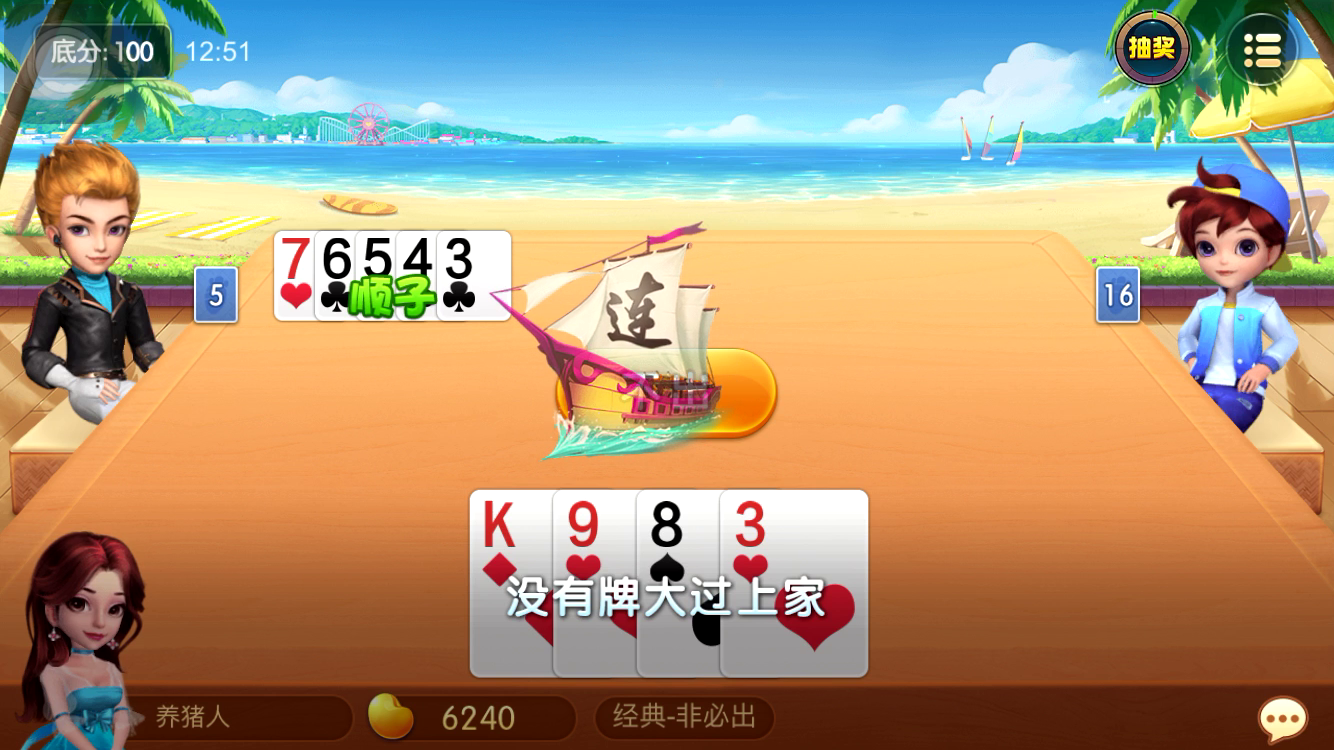K: (471, 496, 537, 552)
eight: (640, 497, 696, 552)
five: (363, 236, 395, 285)
four: (401, 233, 436, 280)
nine: (557, 496, 611, 550)
seven: (275, 233, 314, 280)
six: (319, 234, 358, 281)
three: (726, 497, 780, 556), (443, 232, 482, 283)
